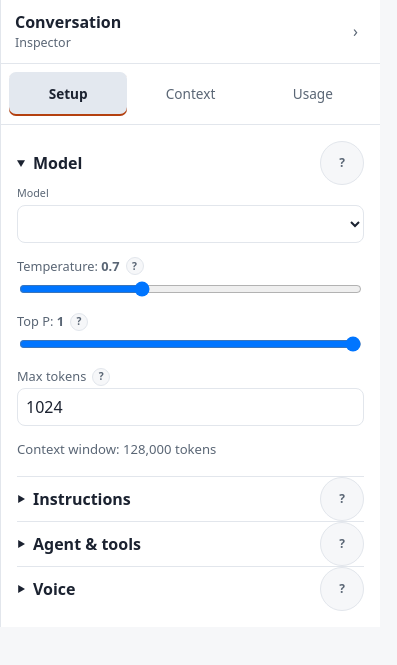
Test case: ConversationInspector › discards a late A response after switching to B
This screenshot has width=397, height=665.
Step 1. Click the button "Instructions" → click(82, 499), box x1=17 y1=477 x2=313 y2=521
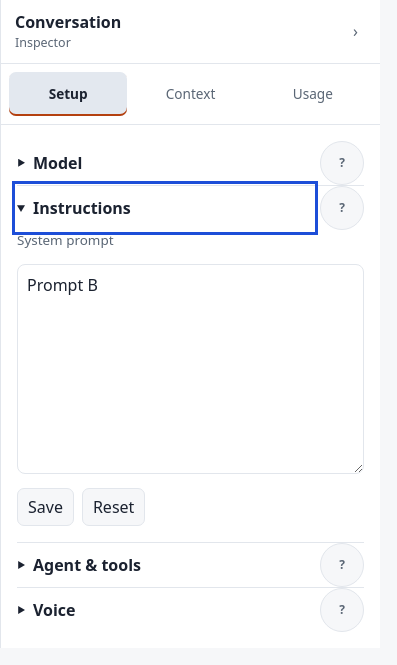
Now the text box labelled "System prompt" holds "Prompt B", box x1=17 y1=264 x2=364 y2=474
